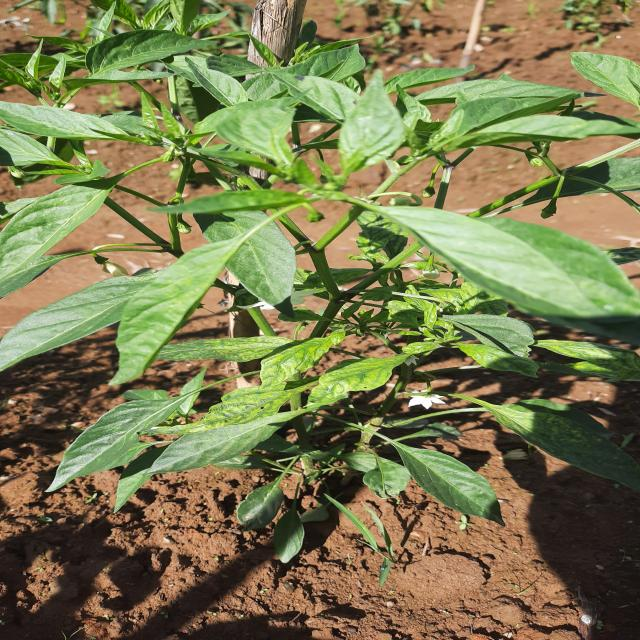thrips: (162, 381, 299, 446), (250, 334, 358, 390), (327, 356, 424, 406)
